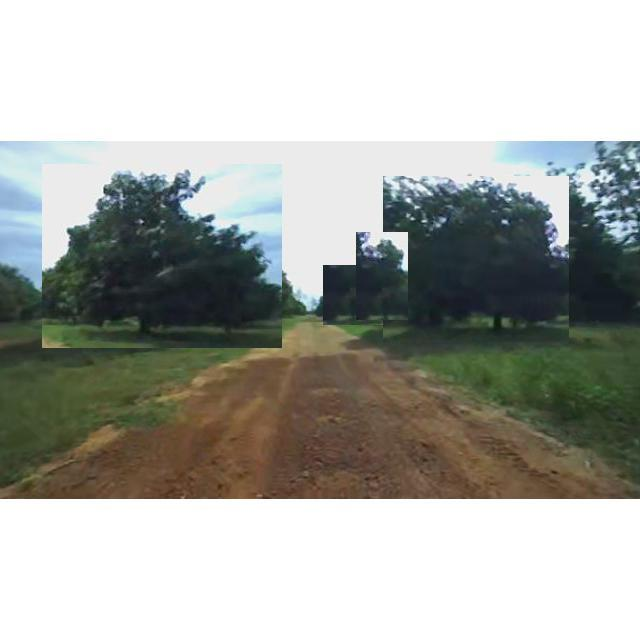direk: (42, 164, 282, 348), (383, 176, 569, 342), (564, 142, 640, 328), (323, 265, 409, 325), (356, 232, 408, 320), (0, 255, 46, 328), (248, 265, 304, 323)
